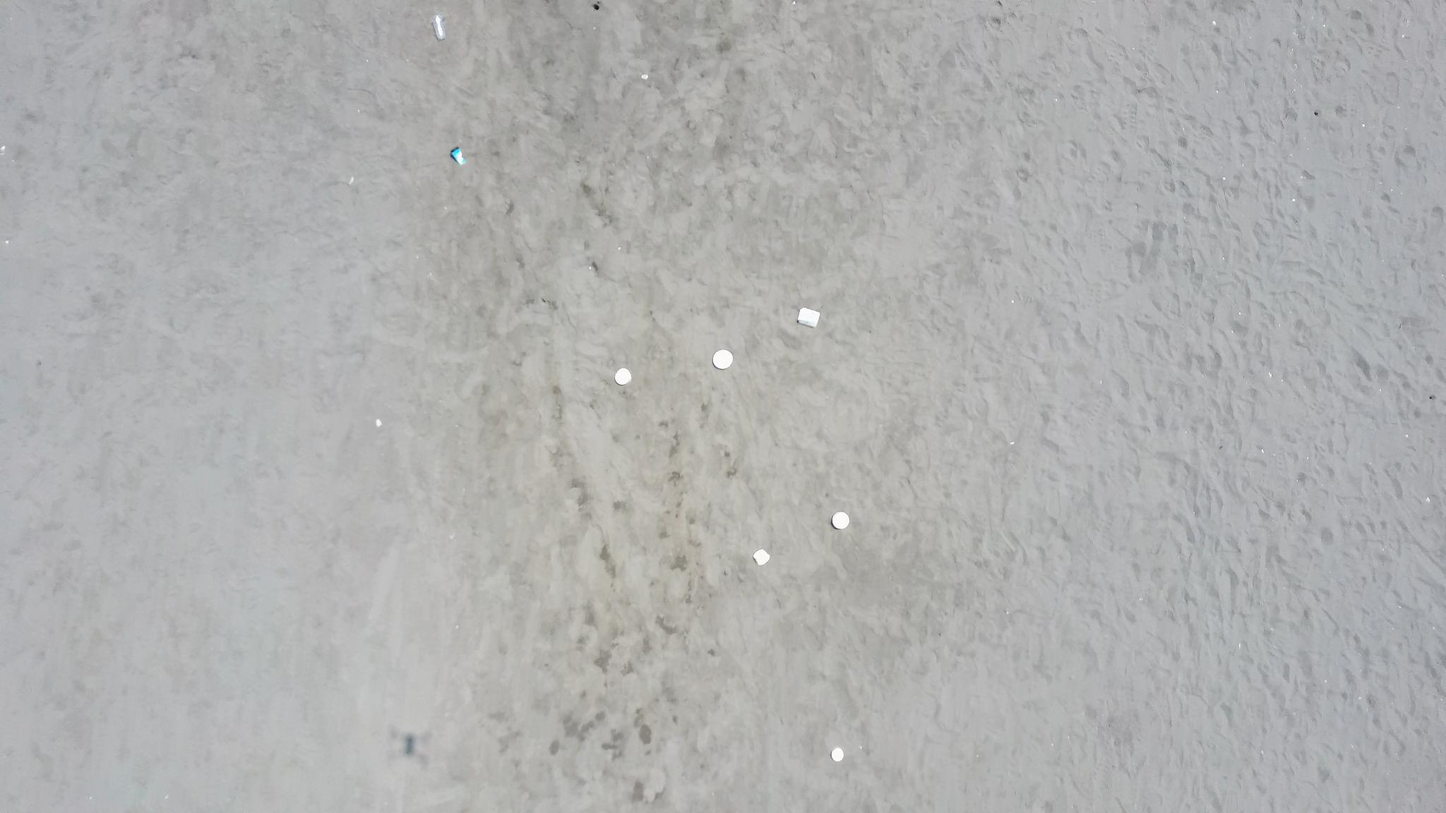Garbage: (799, 307, 818, 327), (712, 350, 733, 368), (432, 13, 444, 40), (831, 511, 848, 528), (614, 368, 631, 385), (450, 147, 466, 164), (753, 549, 769, 564), (831, 747, 844, 761), (376, 418, 381, 426)
